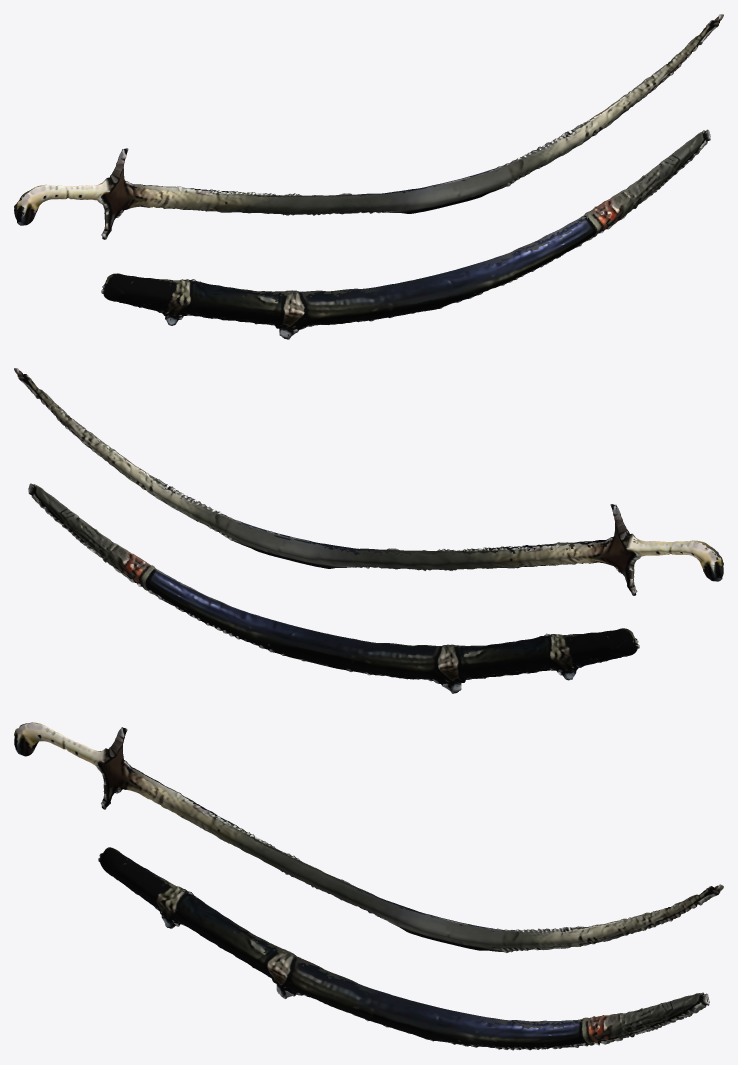
File: kfl-2244.glb
3 views of the same model, one above another, from view 1: azimuth 30°, elevation 25°; view 2: azimuth 150°, elevation 25°; view 3: azimuth 330°, elevation 25° (orthographic).
Parts seen in each view (by area): view 1: kfl-2244; view 2: kfl-2244; view 3: kfl-2244.
Boxes of the visible parts, box(x1,y1,x2,y2) form: kfl-2244: box(14, 14, 723, 339); kfl-2244: box(14, 368, 723, 693); kfl-2244: box(14, 722, 723, 1050).
Bounding box in the file's own units: 0.9877 × 0.3114 × 0.0424.
4 materials, 4 textured.
